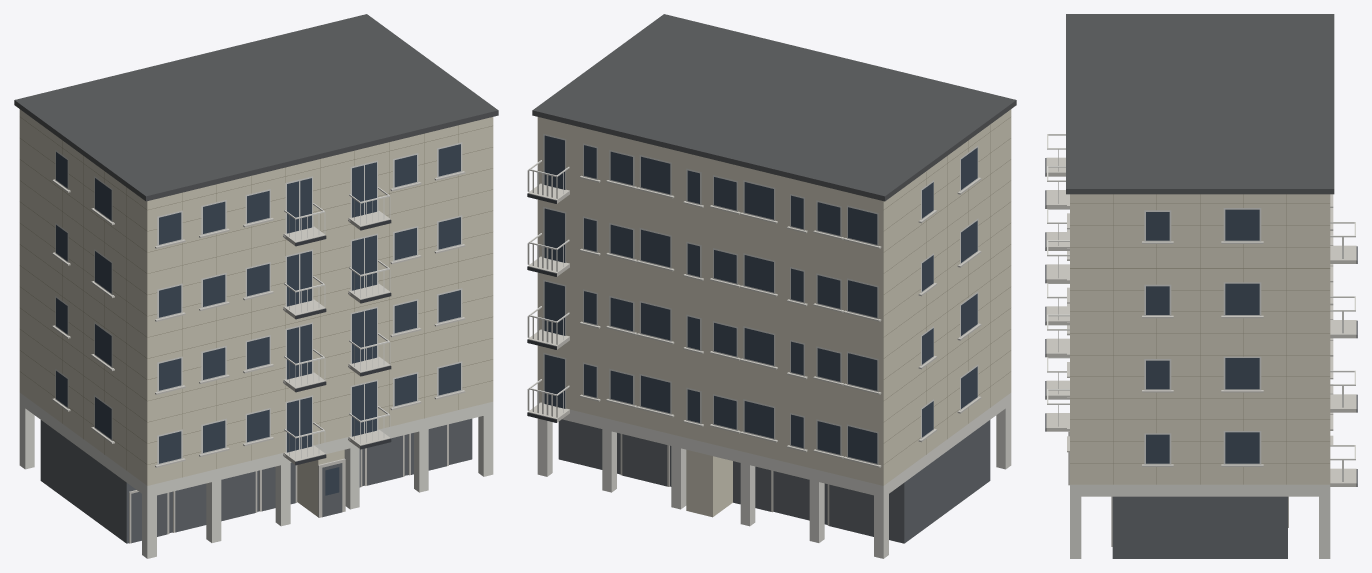
File: nw-pilotis-centre-panel-flat__concrete-panel__5__flat__long__pilotis.glb
3 renders of one model, left to right at view 1: azimuth 30°, elevation 25°; view 2: azimuth 150°, elevation 25°; view 3: azimuth 270°, elevation 25°, orthographic.
Visible parts, largest first — view 1: nw-pilotis-centre-panel-flat__concrete-panel__5__flat__long_; view 2: nw-pilotis-centre-panel-flat__concrete-panel__5__flat__long_; view 3: nw-pilotis-centre-panel-flat__concrete-panel__5__flat__long_.
Part boxes in pixels (box(x1,y1,x2,y2)): nw-pilotis-centre-panel-flat__concrete-panel__5__flat__long_: box(14, 14, 498, 558); nw-pilotis-centre-panel-flat__concrete-panel__5__flat__long_: box(527, 14, 1016, 558); nw-pilotis-centre-panel-flat__concrete-panel__5__flat__long_: box(1045, 14, 1357, 558).
Bounding box in the file's own units: 15.64 × 15.47 × 11.78.
